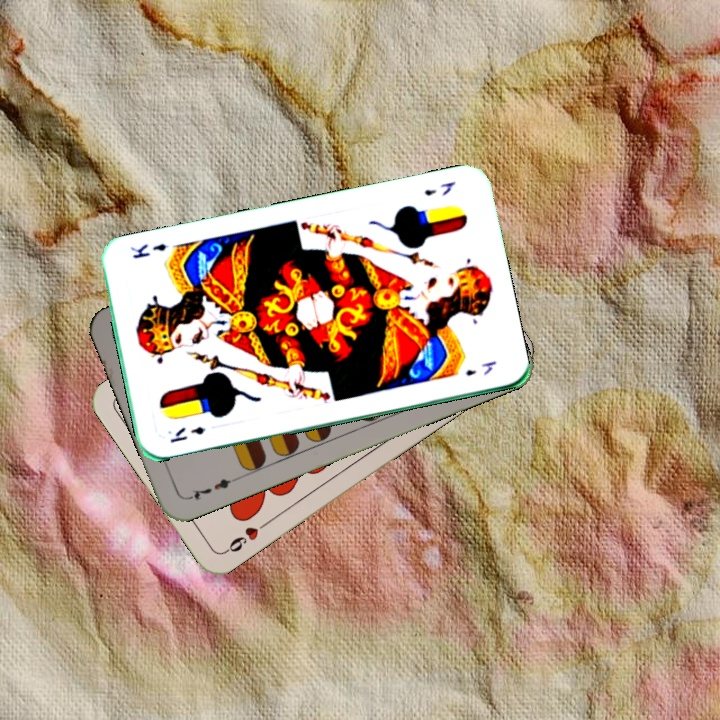E7: (183, 473, 240, 503)
EK: (166, 422, 209, 446), (420, 178, 458, 199)
H9: (220, 516, 272, 556)
